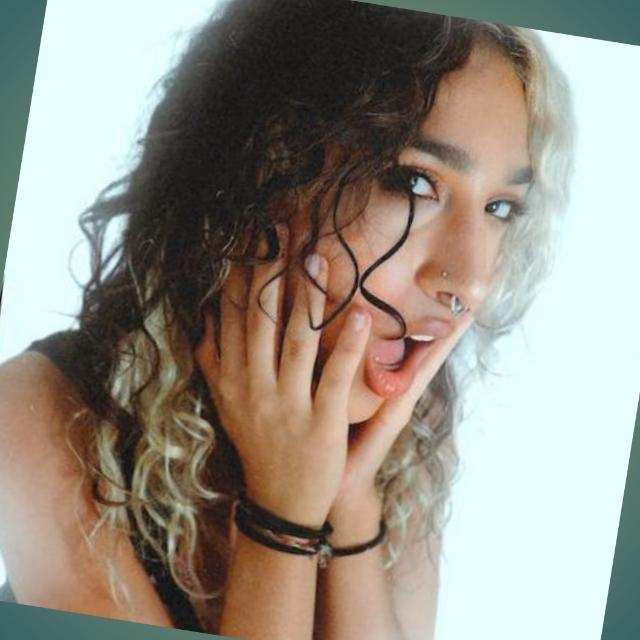Surprised: (276, 90, 532, 440)
